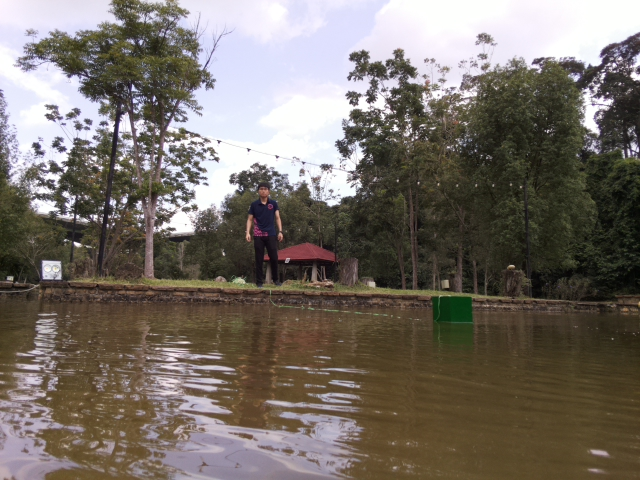obstacle: (431, 295, 474, 324)
